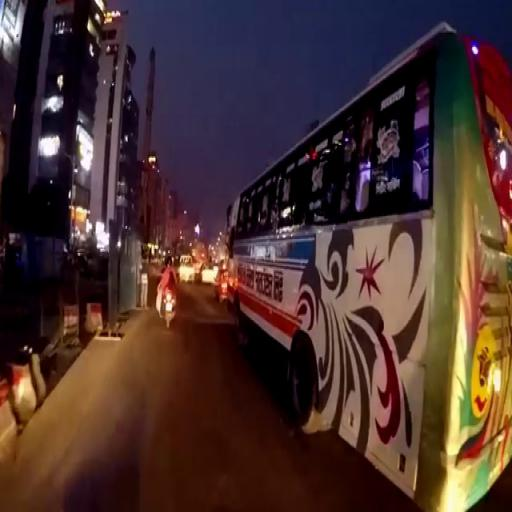bus: (227, 28, 512, 512)
car: (214, 267, 228, 300), (200, 263, 215, 281)
motorbike: (162, 287, 175, 329)
pickup: (179, 254, 196, 281)
